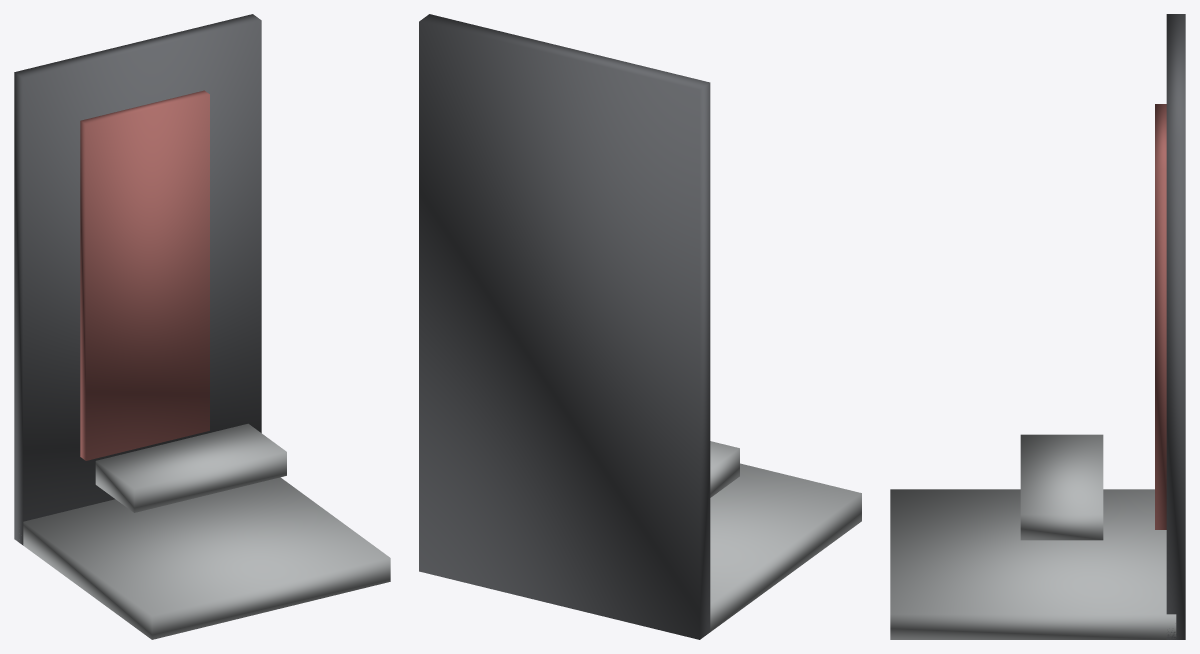
Rendered from roof_access_hatch_stair_18.glb.
3 views of the same model, side by side, from view 1: azimuth 30°, elevation 25°; view 2: azimuth 150°, elevation 25°; view 3: azimuth 270°, elevation 25° (orthographic). The views are drawn at different scales.
Visible parts, largest first — view 1: world; view 2: world; view 3: world.
Part boxes in pixels (x1,y1,x2,y2): world: (14, 14, 390, 639); world: (419, 14, 861, 639); world: (890, 14, 1185, 639).
Bounding box in the file's own units: 1.25 × 2.34 × 1.25.
